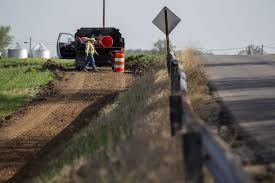barrel: (114, 52, 124, 72)
